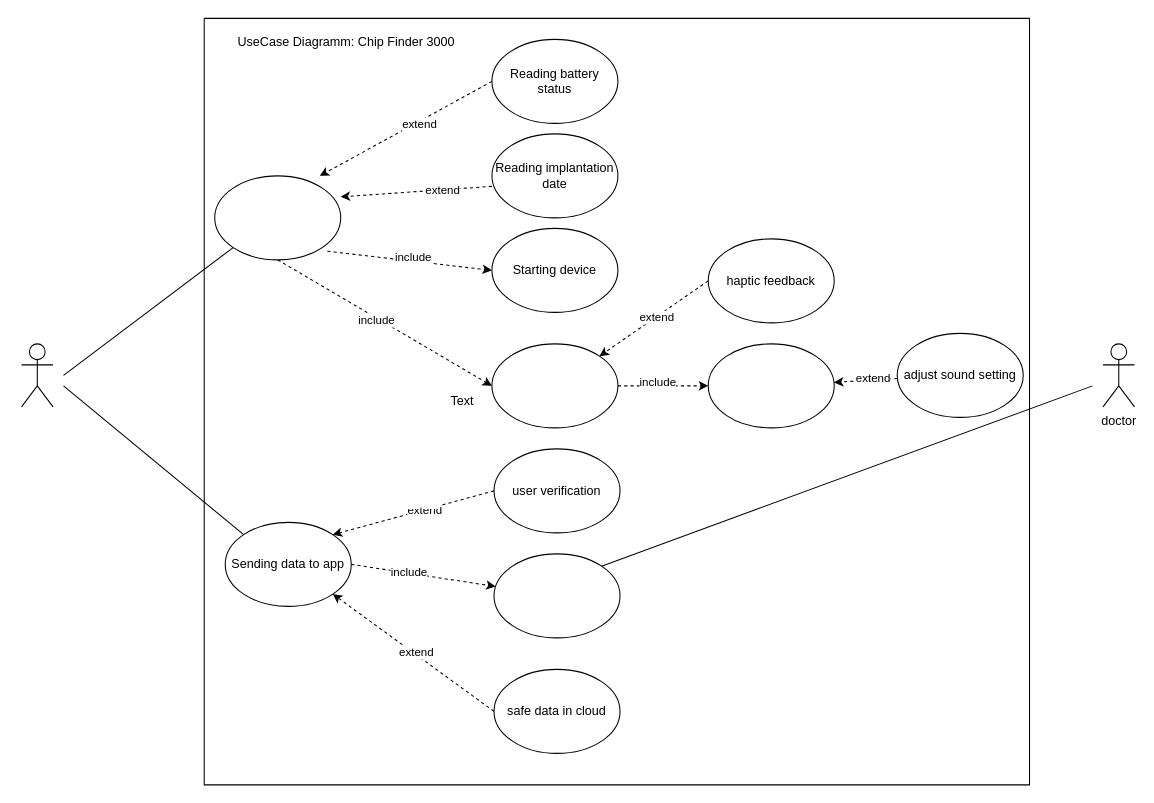
Some shapes in this 1154 by 803 pixel diagram are drawn without their labels. The box of each missing label's shape, as (x1, y1, x2, y2) in pixels:
data overview in App: (493, 553, 620, 638)
giving sound feedback: (707, 343, 834, 428)
Localizing chips: (491, 343, 618, 428)
Patient: (20, 343, 53, 407)
Scanning for chips: (214, 175, 341, 260)
